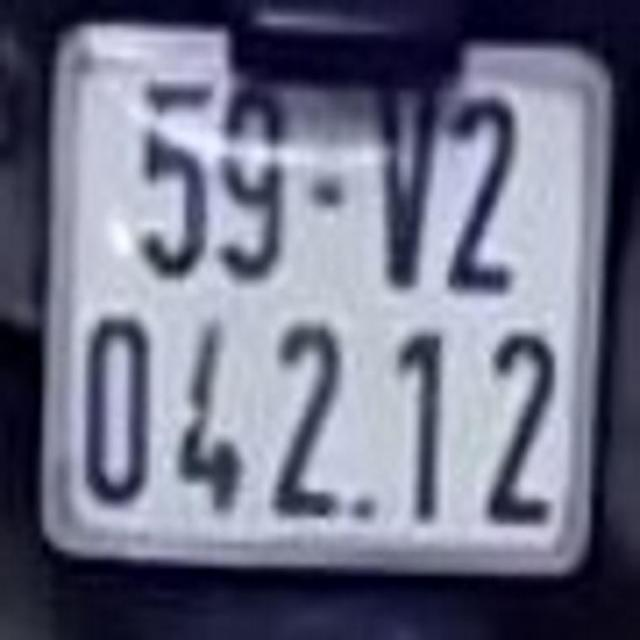0: (78, 304, 156, 511)
1: (390, 310, 455, 532)
2: (484, 313, 559, 538), (270, 302, 344, 516), (453, 75, 523, 296)
4: (177, 309, 247, 516)
5: (126, 60, 216, 303)
9: (216, 64, 298, 303)
V: (368, 75, 443, 295)
